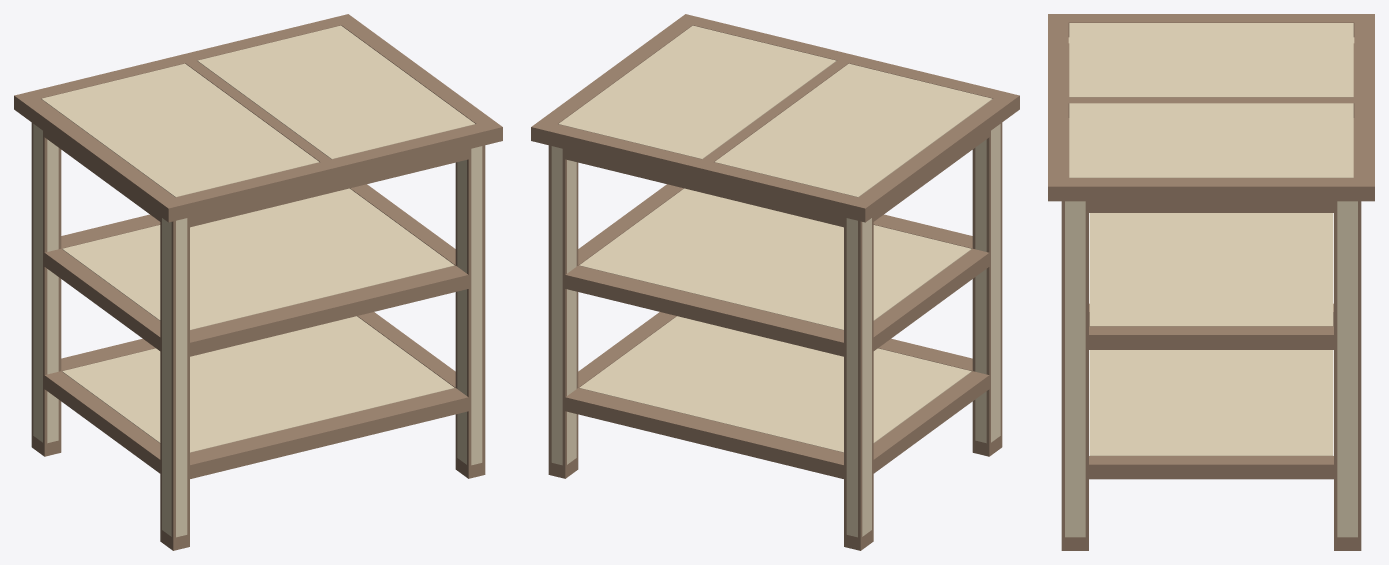
The picture shows the model from 3 angles, left to right: view 1: azimuth 30°, elevation 25°; view 2: azimuth 150°, elevation 25°; view 3: azimuth 270°, elevation 25°; orthographic projection. The views are drawn at different scales.
Parts seen in each view (by area): view 1: P050 Middle maple panel, P045 Lower maple panel, P061 Top maple panel, P060 Top maple panel, P055 Top front/back border, P041 Lower front/back rail, P046 Middle front/back rail, P057 Top side border, P025 Leg 21 segment 10, P005 Leg 11 segment 10, P056 Top front/back border, P043 Lower side rail (+22 smaller); view 2: P050 Middle maple panel, P045 Lower maple panel, P061 Top maple panel, P060 Top maple panel, P056 Top front/back border, P042 Lower front/back rail, P047 Middle front/back rail, P057 Top side border, P037 Leg 22 segment 12, P017 Leg 12 segment 12, P055 Top front/back border, P043 Lower side rail (+22 smaller); view 3: P050 Middle maple panel, P045 Lower maple panel, P060 Top maple panel, P061 Top maple panel, P029 Leg 21 segment 21, P039 Leg 22 segment 21, P058 Top side border, P044 Lower side rail, P049 Middle side rail, P055 Top front/back border, P056 Top front/back border, P054 Top side apron (+6 smaller).
Part boxes in pixels (x1,y1,x2,y2): P050 Middle maple panel: (62, 188, 454, 329); P045 Lower maple panel: (62, 316, 454, 452); P061 Top maple panel: (197, 25, 475, 159); P060 Top maple panel: (41, 63, 319, 197); P055 Top front/back border: (159, 120, 502, 222); P041 Lower front/back rail: (190, 388, 468, 478); P046 Middle front/back rail: (190, 265, 468, 356); P057 Top side border: (23, 98, 175, 215); P025 Leg 21 segment 10: (471, 146, 482, 465); P005 Leg 11 segment 10: (176, 218, 187, 537); P056 Top front/back border: (14, 14, 357, 115); P043 Lower side rail: (44, 371, 160, 473); P050 Middle maple panel: (579, 188, 971, 329); P045 Lower maple panel: (579, 316, 971, 452); P061 Top maple panel: (558, 25, 836, 159); P060 Top maple panel: (714, 63, 992, 197); P056 Top front/back border: (531, 120, 874, 222); P042 Lower front/back rail: (565, 388, 843, 478); P047 Middle front/back rail: (565, 265, 843, 356); P057 Top side border: (858, 98, 1010, 215); P037 Leg 22 segment 12: (551, 146, 562, 465); P017 Leg 12 segment 12: (846, 218, 857, 537); P055 Top front/back border: (676, 14, 1019, 115); P043 Lower side rail: (873, 371, 989, 473); P050 Middle maple panel: (1089, 213, 1333, 326); P045 Lower maple panel: (1089, 350, 1333, 455); P060 Top maple panel: (1069, 23, 1353, 97); P061 Top maple panel: (1069, 103, 1353, 177); P029 Leg 21 segment 21: (1065, 201, 1085, 537); P039 Leg 22 segment 21: (1337, 201, 1357, 537); P058 Top side border: (1068, 178, 1354, 201); P044 Lower side rail: (1089, 456, 1333, 479); P049 Middle side rail: (1089, 326, 1333, 349); P055 Top front/back border: (1048, 14, 1068, 201); P056 Top front/back border: (1354, 14, 1374, 201); P054 Top side apron: (1089, 201, 1333, 212).
Bounding box in the file's own units: 0.6 × 0.6 × 0.48.
